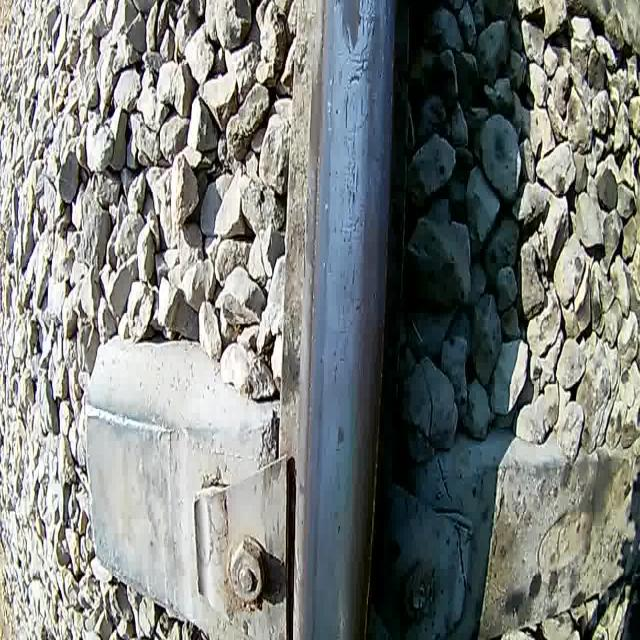Cracks: (343, 0, 377, 134)
Squats: (335, 0, 366, 56), (331, 418, 347, 455)
